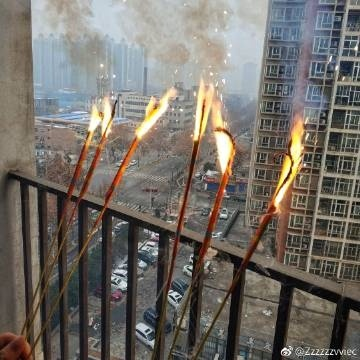fire: (192, 75, 235, 179), (272, 108, 311, 211), (134, 84, 176, 138), (87, 94, 114, 134)
